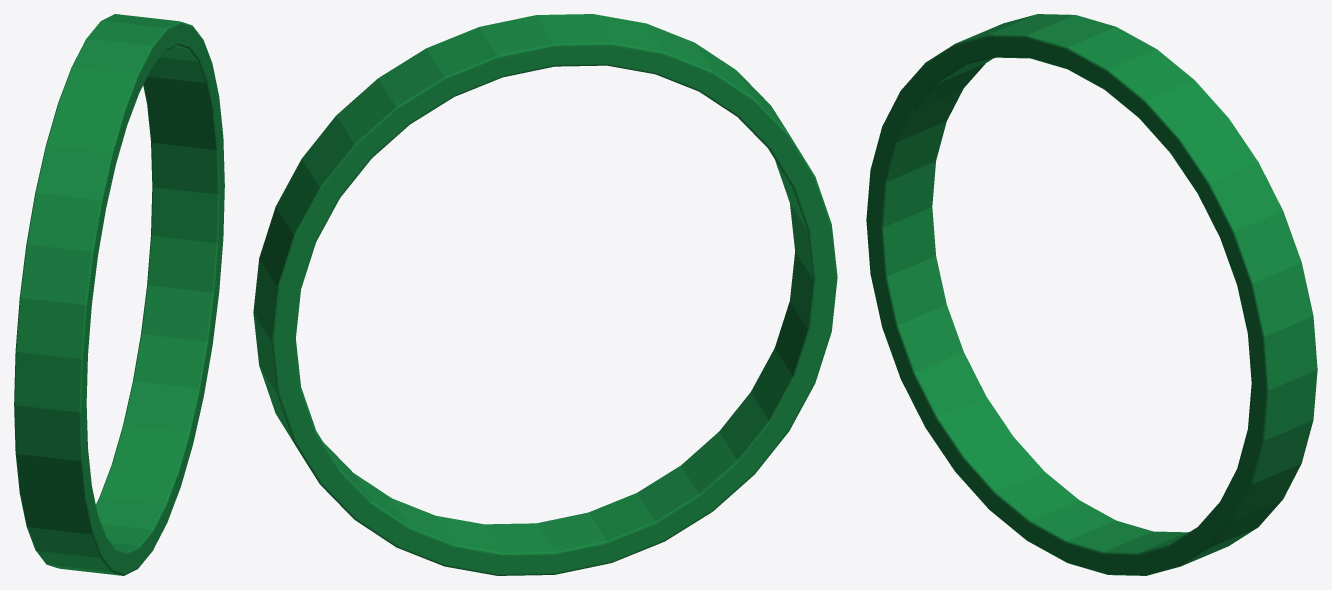
3 renders of one model, left to right at view 1: azimuth 30°, elevation 25°; view 2: azimuth 150°, elevation 25°; view 3: azimuth 270°, elevation 25°, orthographic. The views are drawn at different scales.
Parts seen in each view (by area): view 1: nodes[0]; view 2: nodes[0]; view 3: nodes[0].
Boxes of the visible parts, x1=… form: nodes[0]: x1=14, y1=14, x2=224, y2=575; nodes[0]: x1=253, y1=14, x2=837, y2=575; nodes[0]: x1=866, y1=14, x2=1317, y2=575.
Bounding box in the file's own units: 80.03 × 101 × 80.03.
